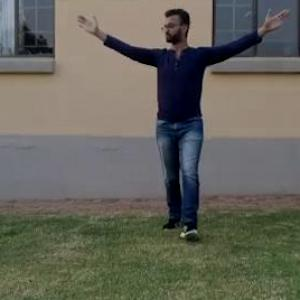takeoff: (70, 0, 292, 241)
